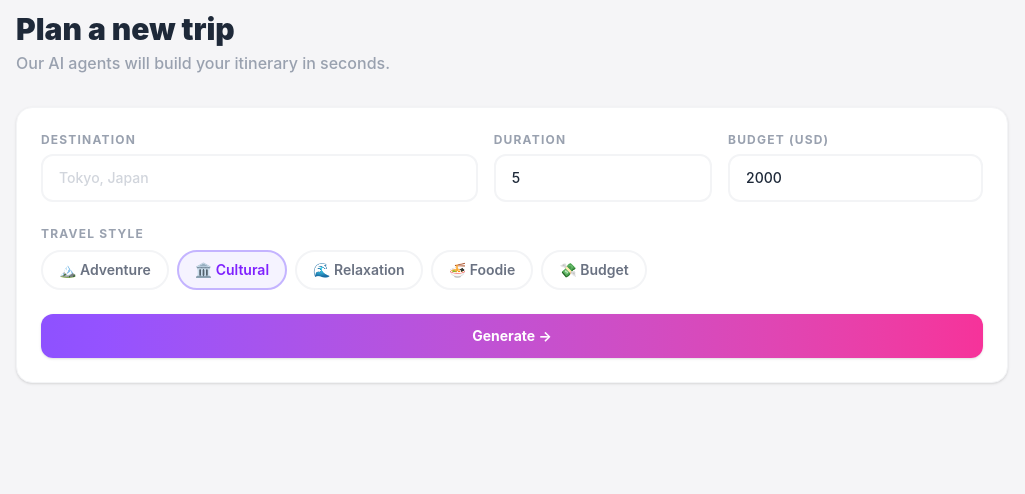
it: TripPlanner — generate error › shows error message when generate API returns non-ok
Step 1. Type "Tokyo" into the field with placeholder "Tokyo, Japan" → (259, 178), box [41, 154, 478, 202]
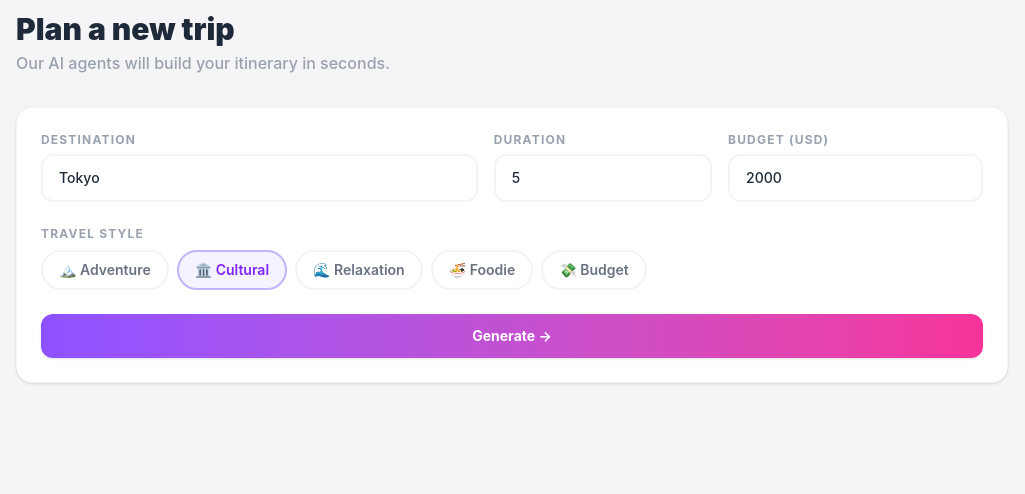
Step 2. Submit the form named "Generate", box [16, 107, 1008, 383]
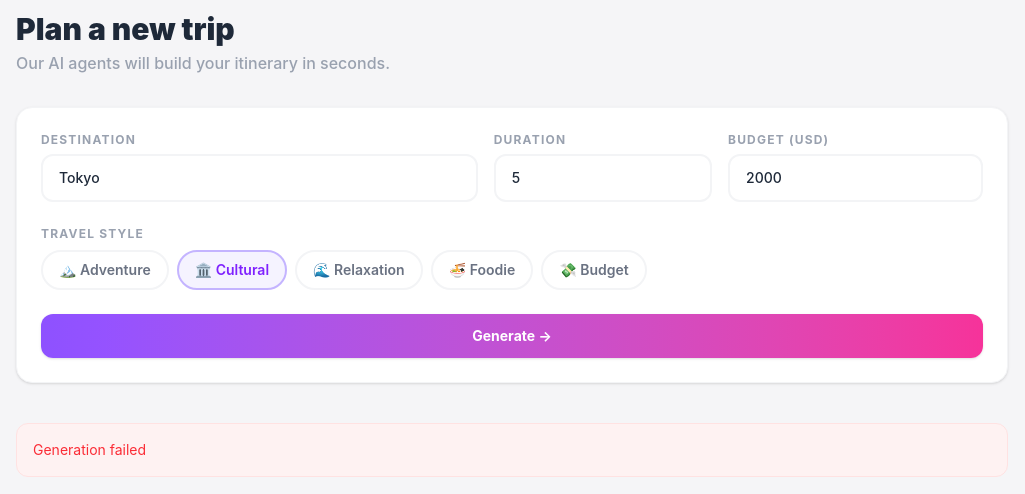
Now the text "Generation failed" is shown, box [33, 441, 146, 458]
